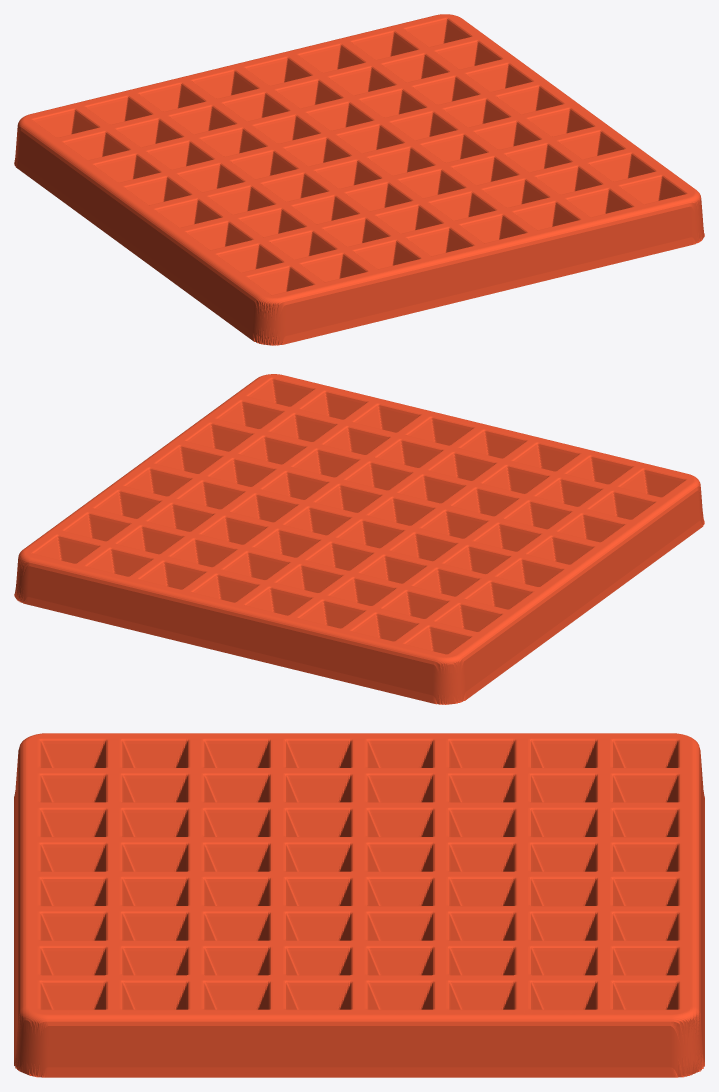
The model's file is mold.glb.
3 views of the same model, one above another, from view 1: azimuth 30°, elevation 25°; view 2: azimuth 150°, elevation 25°; view 3: azimuth 270°, elevation 25° (orthographic). The views are drawn at different scales.
Visible parts, largest first — view 1: geometry_0; view 2: geometry_0; view 3: geometry_0.
Boxes of the visible parts, x1,y1,x2,y2 form: geometry_0: (14, 14, 704, 345); geometry_0: (14, 374, 704, 704); geometry_0: (14, 733, 704, 1077).
Size of the model in its own units: 0.1873 by 0.0172 by 0.1873.
